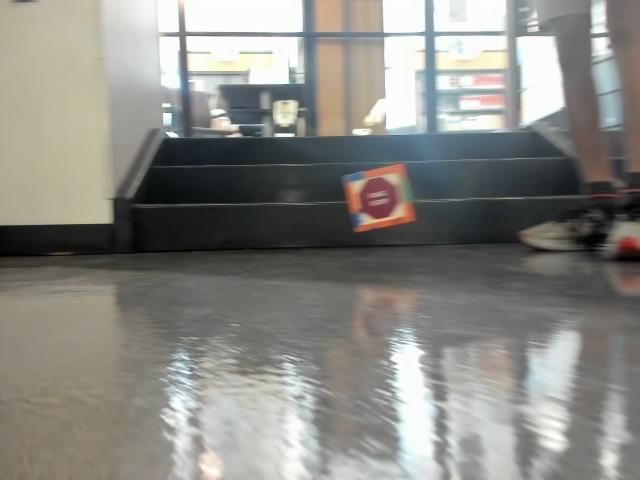Fake Stop: (354, 182, 392, 223)
